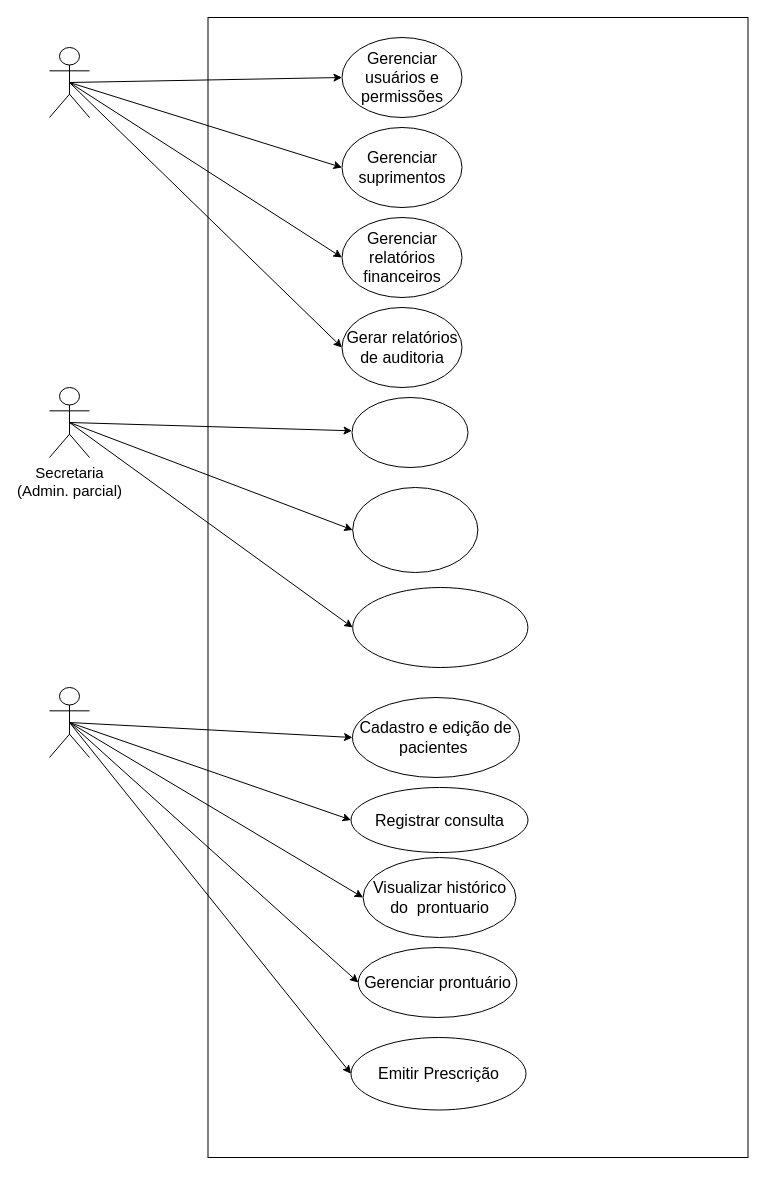
Image size: 766x1183. Some labels were removed from this diagram. The shapes that lost their labels are listed below. From the top down, each one's box as (x1, y1, x2, y2) in pixels, then its label:
(48, 46, 90, 118): Administrador
(351, 396, 468, 468): Agendar consulta
(352, 486, 478, 572): Visualizar agendamentos
(352, 586, 528, 668): Acessar informações basicas do prontuário
(48, 686, 90, 758): Profissional da Saúde
